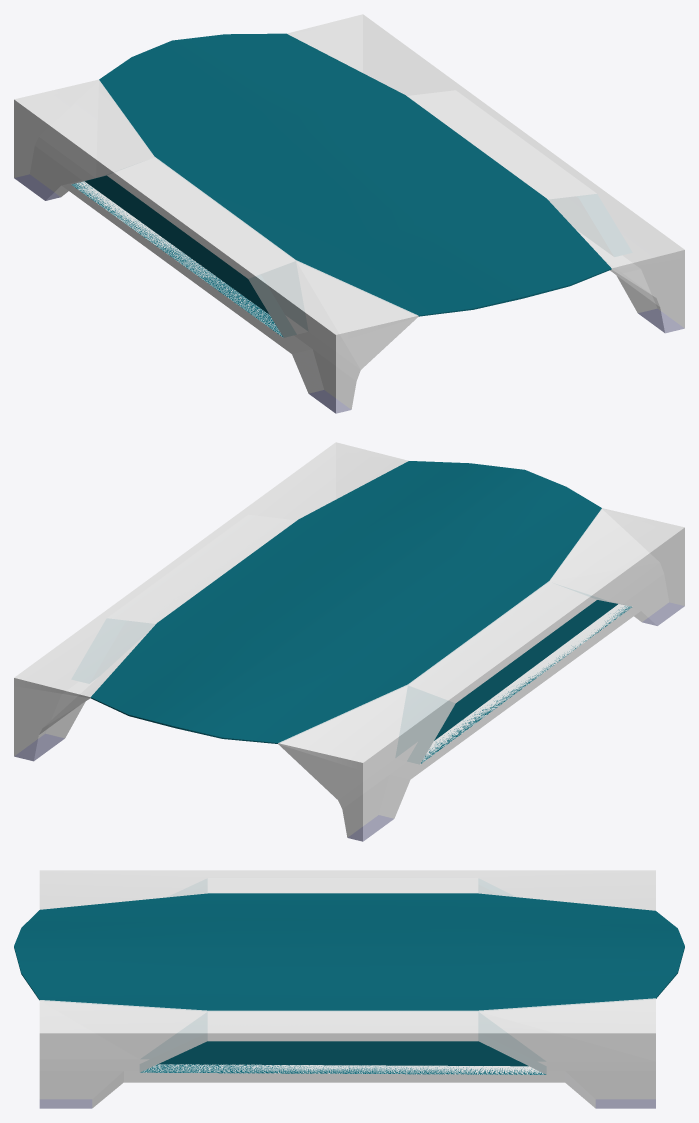
File: Table_basse.FBX
The picture shows the model from 3 angles, top to bottom: view 1: azimuth 30°, elevation 25°; view 2: azimuth 150°, elevation 25°; view 3: azimuth 270°, elevation 25°; orthographic projection. The views are drawn at different scales.
Parts seen in each view (by area): view 1: Box001; view 2: Box001; view 3: Box001.
Part boxes in pixels (box(x1,y1,x2,y2)): Box001: box(14, 14, 684, 413); Box001: box(14, 442, 684, 841); Box001: box(14, 870, 684, 1108).
Bounding box in the file's own units: 19.08 × 4.4 × 33.18.
